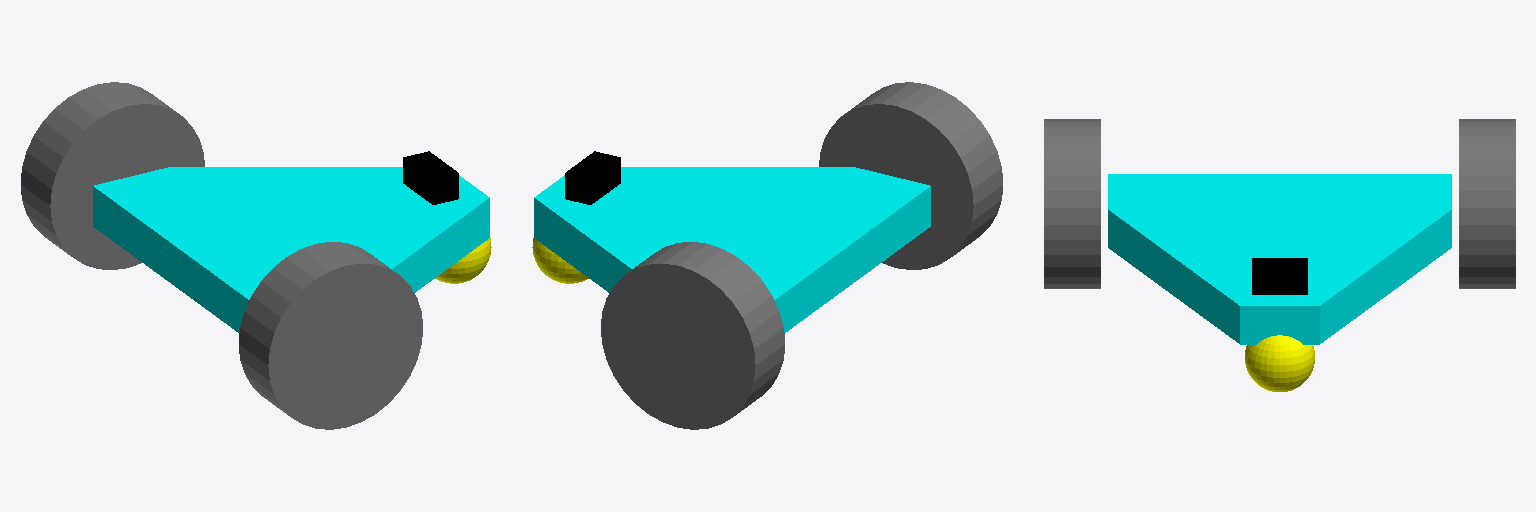
robot.urdf — qbot:
<?xml version="1.0"?>
<robot name="qbot">

  <!-- Define robot constants -->
  <!-- x-axis points forward, y-axis points to left, z-axis points upwards -->

  <!-- Robot Base -->
  <link name="base_link">
    <visual>
      <origin xyz="0 0 0" rpy="0 0 3.1415926"/>
      <geometry>
        <mesh filename="package://qbot_nodes_cpp/meshes/rover_base.stl" scale="1.0 1.0 1.0"/>
      </geometry>
      <material name="Cyan">
        <color rgba="0 1.0 1.0 1.0"/>
      </material>
    </visual>
  </link>

  <!-- Robot Footprint -->
  <link name="base_footprint"/>

  <joint name="base_joint" type="fixed">
    <parent link="base_link"/>
    <child link="base_footprint"/>
    <origin xyz="0.0 0.0 -2.0" rpy="0 0 0"/>
  </joint>

  <!-- Left Wheel -->
  <link name="drivewhl_l_link">
    <visual>
      <origin xyz="0 0 0" rpy="1.5708 0 0"/>
      <geometry>
          <cylinder radius="3.00" length="2.00"/>
      </geometry>
      <material name="Gray">
        <color rgba="0.5 0.5 0.5 1.0"/>
      </material>
    </visual>
  </link>

  <joint name="drivewhl_l_joint" type="continuous">
    <parent link="base_link"/>
    <child link="drivewhl_l_link"/>
    <origin xyz="-3.0 7.3125 1.0" rpy="0 0 0"/>
    <axis xyz="0 1 0"/>
  </joint>

    <!-- Right Wheel -->
  <link name="drivewhl_r_link">
    <visual>
      <origin xyz="0 0 0" rpy="1.5708 0 0"/>
      <geometry>
          <cylinder radius="3.00" length="2.00"/>
      </geometry>
      <material name="Gray">
        <color rgba="0.5 0.5 0.5 1.0"/>
      </material>
    </visual>
  </link>

  <joint name="drivewhl_r_joint" type="continuous">
    <parent link="base_link"/>
    <child link="drivewhl_r_link"/>
    <origin xyz="-3.0 -7.3125 1.0" rpy="0 0 0"/>
    <axis xyz="0 1 0"/>
  </joint>

  <!-- Caster Wheel -->
  <link name="front_caster">
    <visual>
      <geometry>
        <sphere radius="1.25"/>
      </geometry>
      <material name="Yellow">
        <color rgba="1.0 1.0 0 1.0"/>
      </material>
    </visual>
  </link>

  <joint name="caster_joint" type="fixed">
    <parent link="base_link"/>
    <child link="front_caster"/>
    <origin xyz="6.0 0.0 -.75" rpy="0 0 0"/>
  </joint>

  <link name="base_laser">
    <visual>
      <geometry>
        <box size="1.0 2.0 1.0"/>
      </geometry>
      <origin xyz="5.0 0 1.75" rpy="0 0 0"/>
      <material name="black">
        <color rgba="0 0 0 1"/>
      </material>
    </visual>
  </link>
     
  <joint name="base_to_laser" type="fixed">
    <parent link="base_link"/>
    <child link="base_laser"/>
    <origin xyz="0.105 0 0.22" rpy="0 0 0"/>
  </joint>

</robot>

--- What the picture shows (computed from the rendered views, not written in the file) ---
The picture shows the robot from 3 angles, left to right: view 1: azimuth 30°, elevation 25°; view 2: azimuth 150°, elevation 25°; view 3: azimuth 270°, elevation 25°; orthographic projection.
Model qbot with 6 links and 5 joints (2 continuous, 3 fixed), rooted at base_link, posed all joints at 0.
Links seen in each view (by area): view 1: base_link, drivewhl_r_link, drivewhl_l_link, base_laser, front_caster; view 2: base_link, drivewhl_l_link, drivewhl_r_link, base_laser, front_caster; view 3: base_link, drivewhl_l_link, drivewhl_r_link, front_caster, base_laser.
Link boxes in pixels (x1=…): base_link: x1=93, y1=167, x2=489, y2=332; drivewhl_r_link: x1=239, y1=242, x2=422, y2=429; drivewhl_l_link: x1=21, y1=82, x2=204, y2=269; base_laser: x1=403, y1=151, x2=458, y2=204; front_caster: x1=435, y1=238, x2=491, y2=283; base_link: x1=534, y1=167, x2=930, y2=332; drivewhl_l_link: x1=601, y1=242, x2=784, y2=429; drivewhl_r_link: x1=819, y1=82, x2=1002, y2=269; base_laser: x1=565, y1=151, x2=620, y2=204; front_caster: x1=532, y1=238, x2=588, y2=283; base_link: x1=1108, y1=174, x2=1451, y2=344; drivewhl_l_link: x1=1459, y1=119, x2=1515, y2=288; drivewhl_r_link: x1=1044, y1=119, x2=1100, y2=288; front_caster: x1=1245, y1=335, x2=1314, y2=391; base_laser: x1=1252, y1=258, x2=1307, y2=294.
Size in the robot's own frame: 13.25 by 16.62 by 6 metres.
Meshes: 1 distinct files referenced, 1 mesh visuals loaded (1 binary STL).